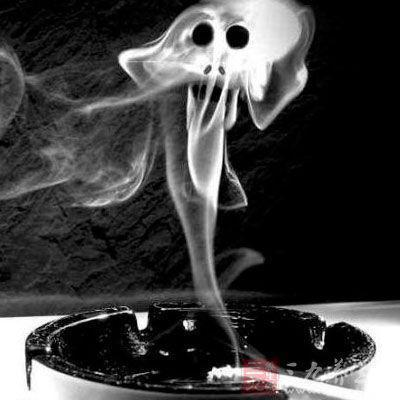smoke: (0, 40, 155, 212), (178, 195, 266, 363)
